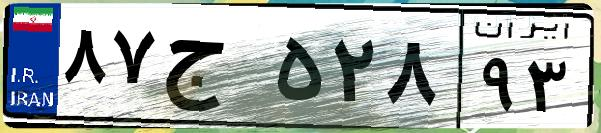2: (330, 28, 385, 110)
3: (525, 38, 570, 115)
5: (270, 28, 330, 110)
7: (110, 28, 158, 98)
8: (385, 28, 445, 110), (57, 26, 110, 100)
9: (475, 38, 525, 113)
ج: (158, 20, 270, 120)
